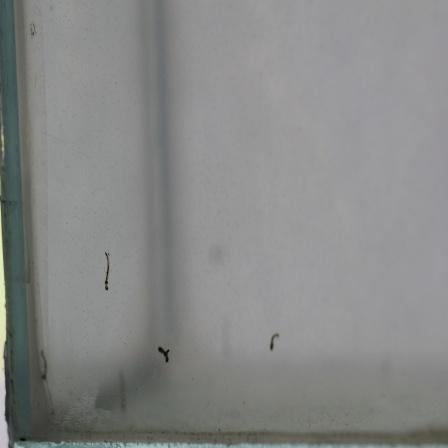Jentik-Nyamuk: (99, 247, 114, 295), (156, 341, 175, 368), (266, 330, 283, 354)
